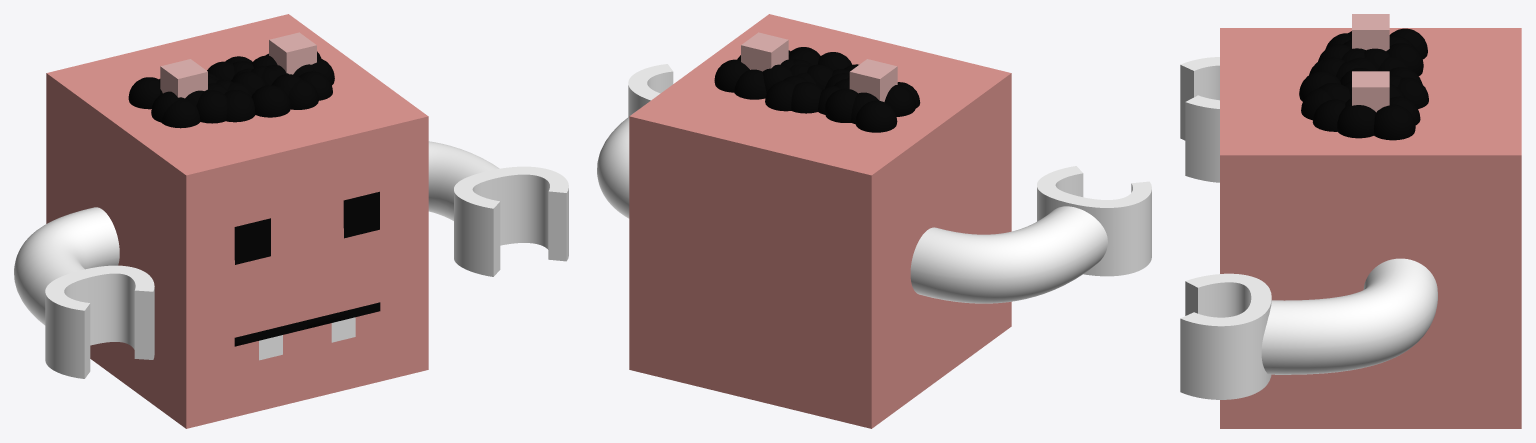
File: dept_e_hand.glb
3 views of the same model, side by side, from view 1: azimuth 30°, elevation 25°; view 2: azimuth 150°, elevation 25°; view 3: azimuth 270°, elevation 25° (orthographic). The views are drawn at different scales.
Parts seen in each view (by area): view 1: Null.1, Sweep.1, Sweep, Cap_1, Cap_2; view 2: Null.1, Sweep, Sweep.1; view 3: Null.1, Sweep.1, Sweep, Cap_2, Cap_1.
Part boxes in pixels (bbox=[...]): Null.1: bbox=[46, 14, 428, 428]; Sweep.1: bbox=[45, 166, 568, 378]; Sweep: bbox=[14, 141, 499, 325]; Cap_1: bbox=[134, 201, 500, 359]; Cap_2: bbox=[84, 191, 566, 378]; Null.1: bbox=[629, 14, 1011, 428]; Sweep: bbox=[597, 112, 1107, 303]; Sweep.1: bbox=[628, 64, 1151, 276]; Null.1: bbox=[1220, 14, 1521, 428]; Sweep.1: bbox=[1180, 57, 1271, 399]; Sweep: bbox=[1261, 258, 1437, 374]; Cap_2: bbox=[1180, 65, 1193, 140]; Cap_1: bbox=[1185, 281, 1197, 315].
Size of the model in its own units: 422 by 231 by 226.
